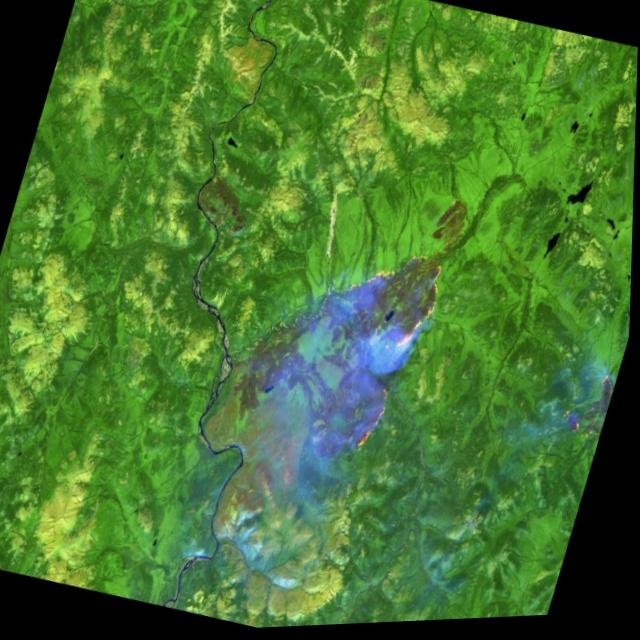fire: (291, 226, 462, 470)
